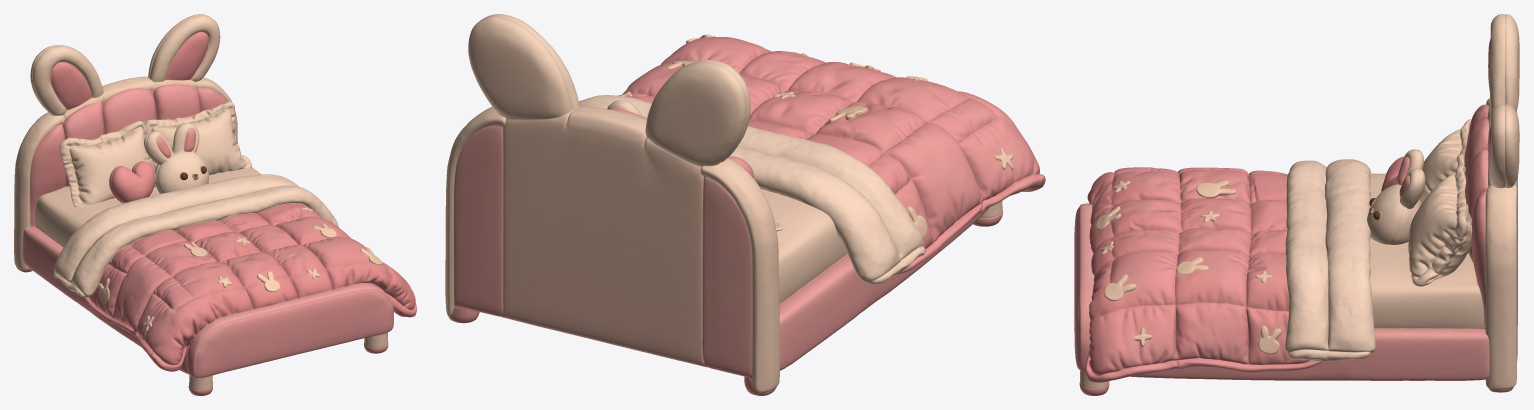
Rendered from Bed.fbx.
3 views of the same model, side by side, from view 1: azimuth 30°, elevation 25°; view 2: azimuth 150°, elevation 25°; view 3: azimuth 270°, elevation 25° (orthographic). The views are drawn at different scales.
Parts seen in each view (by area): view 1: bunny bed 3d model; view 2: bunny bed 3d model; view 3: bunny bed 3d model.
Part boxes in pixels (x1,y1,x2,y2): bunny bed 3d model: (14,14,416,395); bunny bed 3d model: (445,14,1045,395); bunny bed 3d model: (1074,14,1519,395).
Bounding box in the file's own units: 0.855 × 0.6874 × 1.
Materials: 1 (1 with a texture image).
